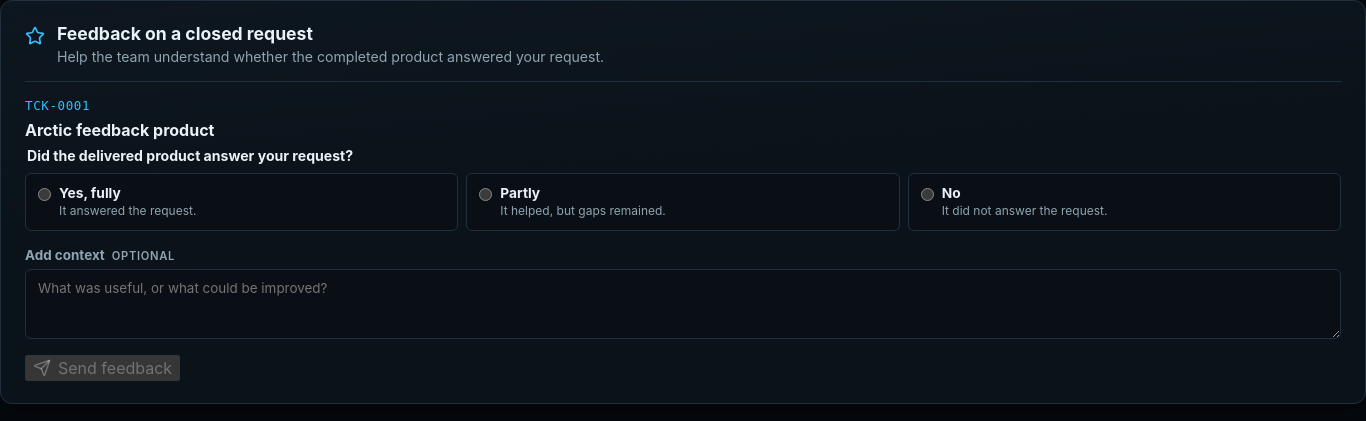
submits simple outcome feedback for a closed request
Expected: the text "Arctic feedback product" is shown, [25, 120, 214, 140]
Click the radio button labelled "Partly It helped, but gaps remained.": {"x": 486, "y": 194} [479, 188, 492, 201]
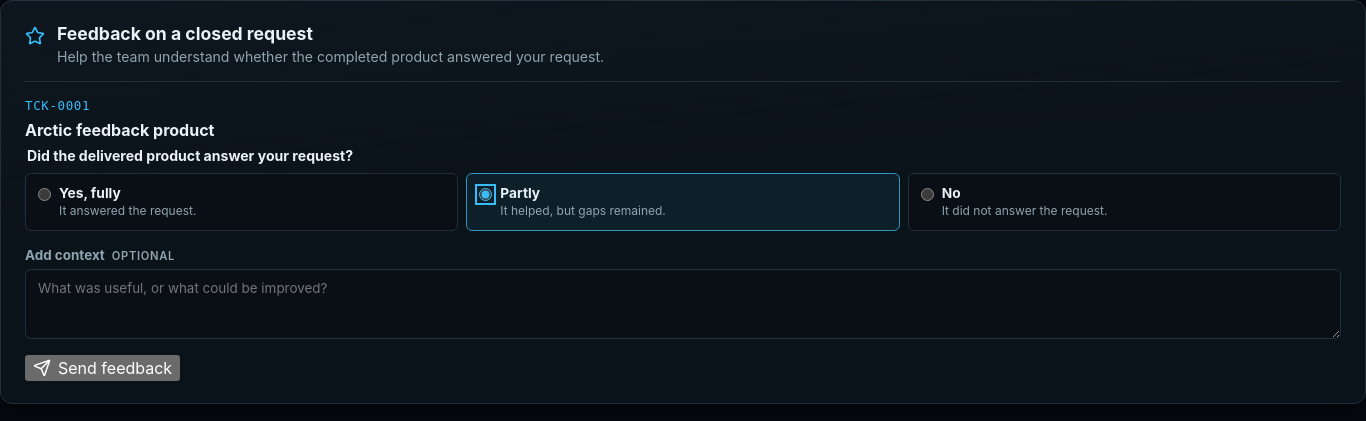
In the text box labelled "Add context Optional": {"x": 683, "y": 304} [25, 269, 1341, 339], type "Clear and useful mock output."
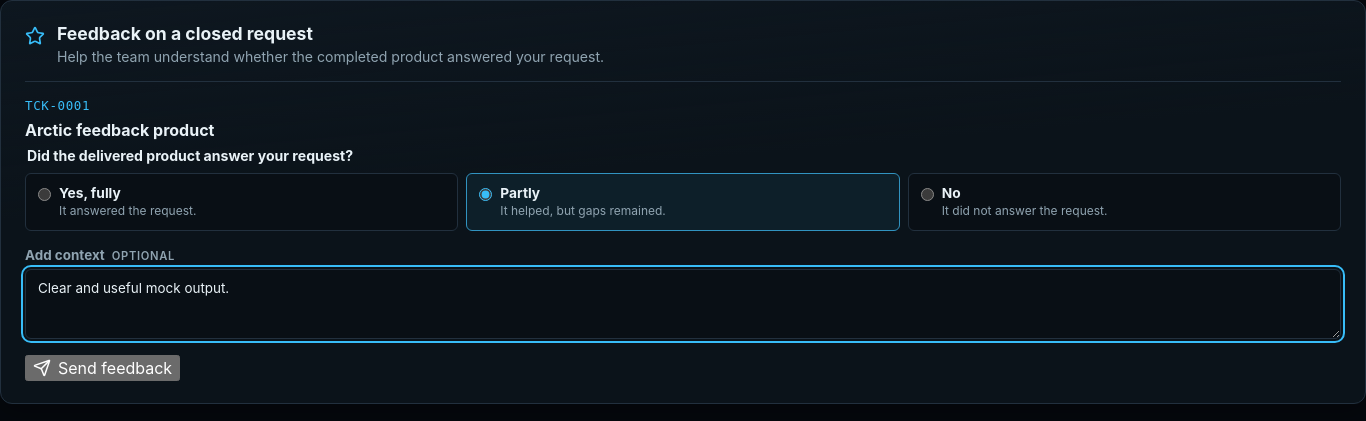
Click the button "Send feedback": {"x": 103, "y": 368} [25, 355, 180, 381]
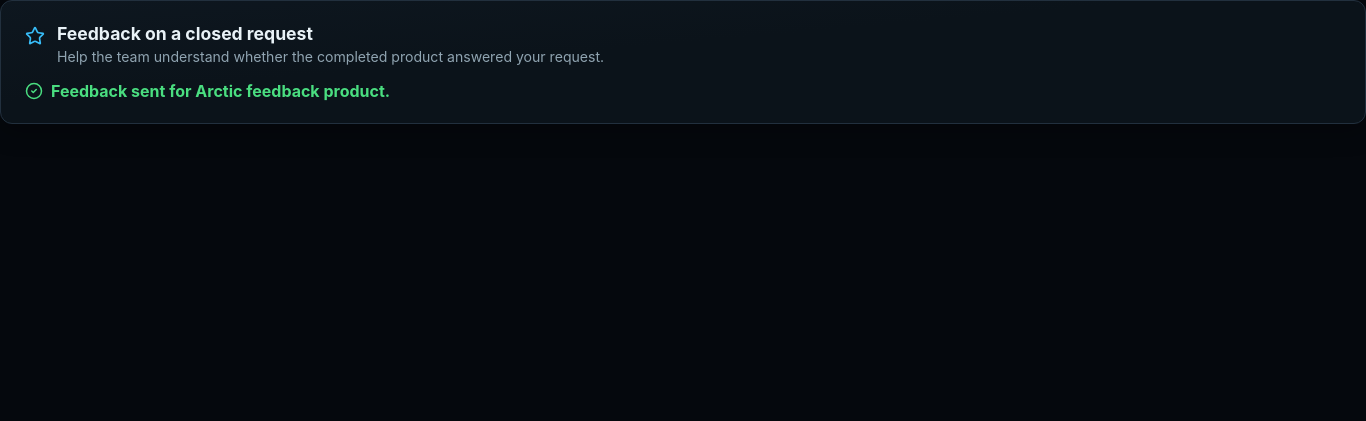
Expected: the text "Feedback sent for Arctic feedback product." is shown, [25, 81, 390, 101]
